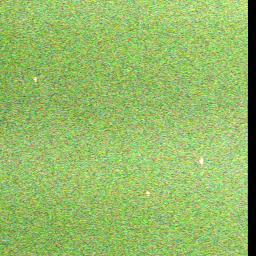Ship: (197, 154, 206, 172), (143, 187, 153, 199), (30, 75, 42, 84)
